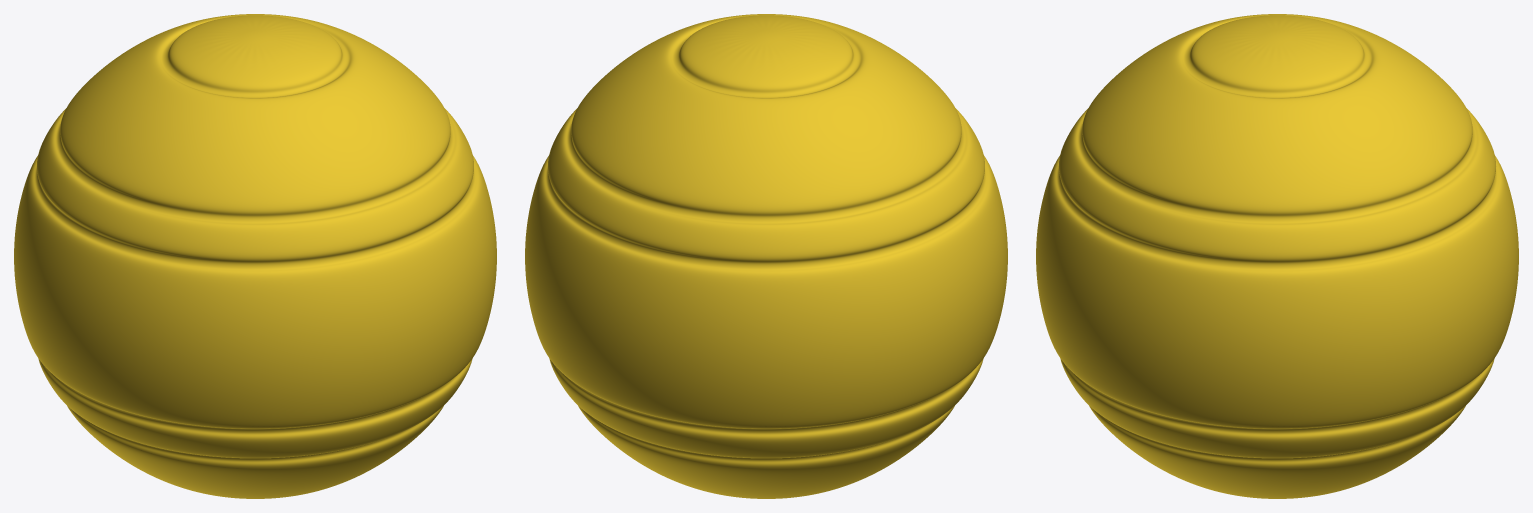
The model's file is six_grooves_yellow.glb.
3 renders of one model, left to right at view 1: azimuth 30°, elevation 25°; view 2: azimuth 150°, elevation 25°; view 3: azimuth 270°, elevation 25°, orthographic.
Parts seen in each view (by area): view 1: Sphere.051; view 2: Sphere.051; view 3: Sphere.051.
Boxes of the visible parts, bbox=[...] form: Sphere.051: bbox=[14, 14, 496, 498]; Sphere.051: bbox=[525, 14, 1007, 498]; Sphere.051: bbox=[1036, 14, 1518, 498].
Size of the model in its own units: 1.97 by 2 by 1.97.
